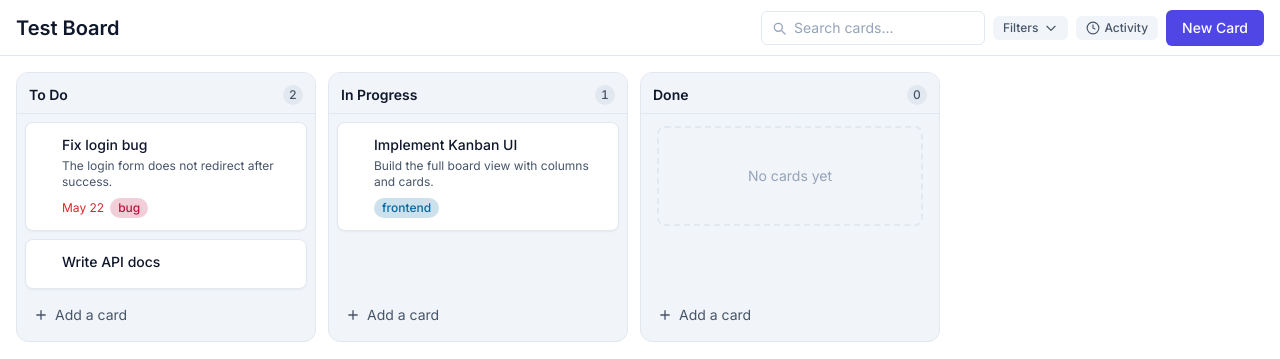
it: BoardView search and filter › clicking an active label chip removes the filter and restores cards
Open filters, activate bug chip
Click the button "Filters".
click(1031, 28)  # box [993,16,1068,40]
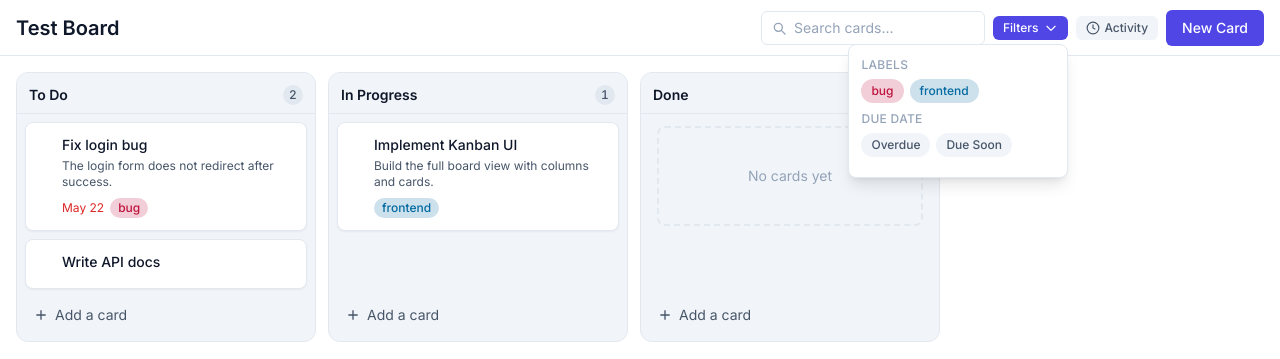
Click the button "bug".
click(882, 90)  # box [861,78,904,102]
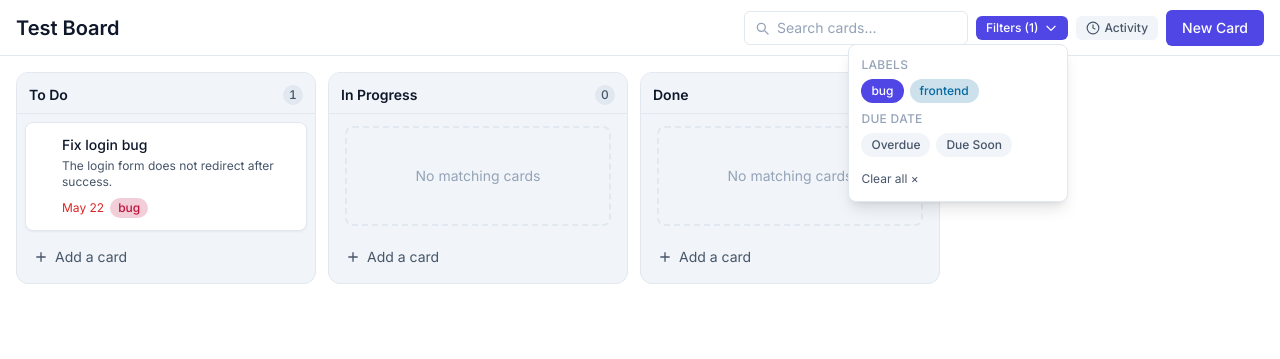
Now deactivate it
Click the button "bug".
click(882, 90)  # box [861,78,904,102]
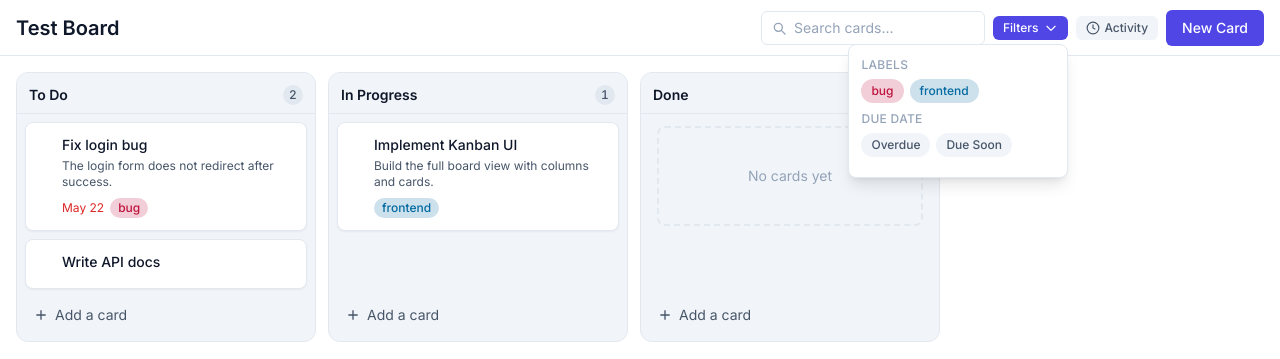
Check: the text "Fix login bug" is shown, box [62,136,147,153]
Check: the text "Write API docs" is shown, box [62,253,160,270]
Check: the text "Implement Kanban UI" is shown, box [374,136,517,153]
